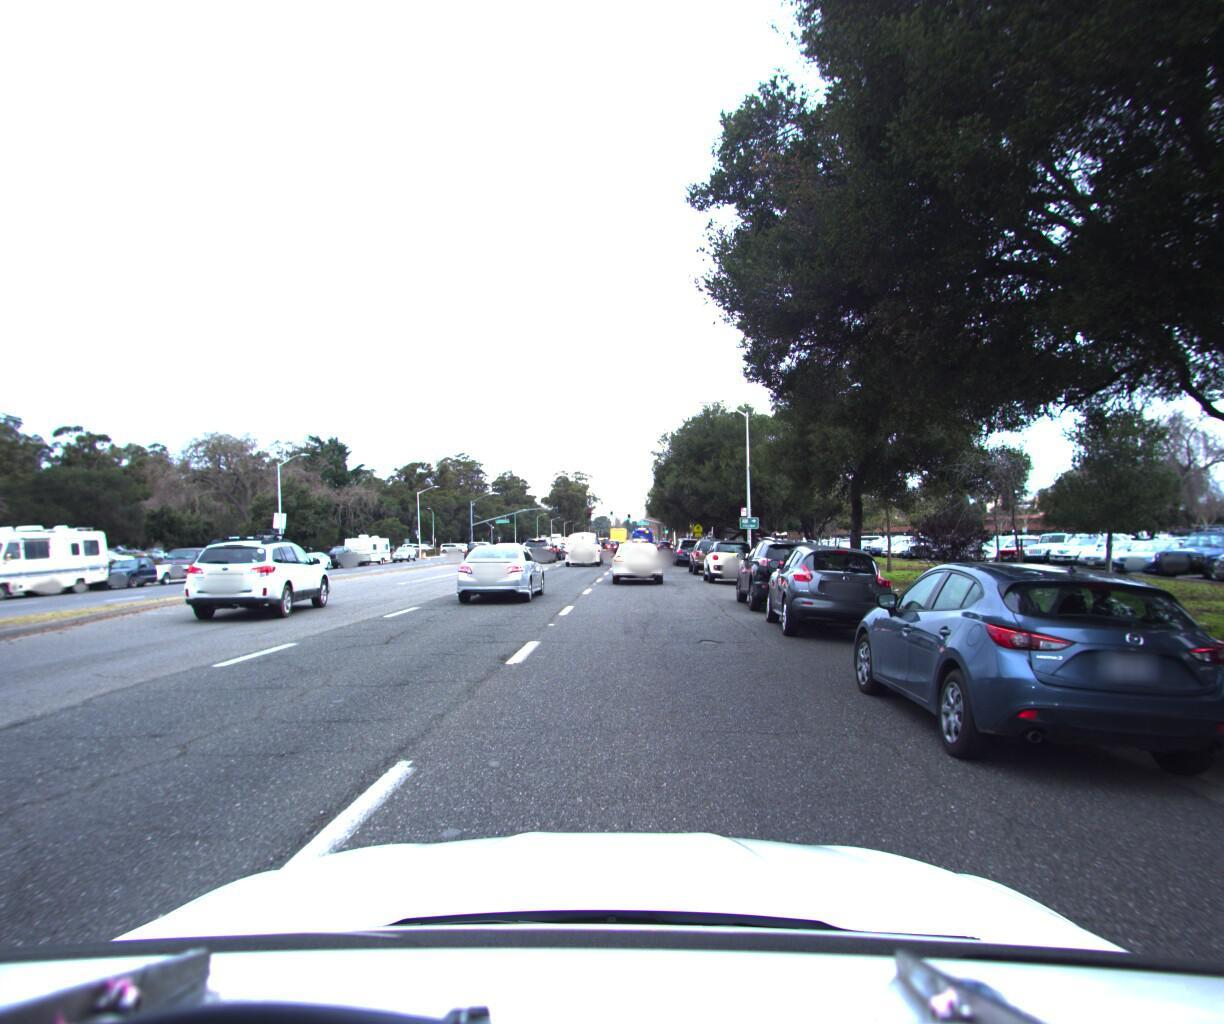car: (837, 545, 1224, 799), (176, 525, 336, 623), (760, 537, 896, 640), (733, 527, 841, 611), (449, 536, 547, 604), (94, 552, 180, 590), (154, 542, 233, 581), (697, 531, 756, 578), (611, 535, 665, 584), (685, 530, 733, 573), (565, 526, 606, 564), (488, 535, 530, 565), (314, 540, 361, 566), (287, 547, 335, 569), (522, 532, 557, 560), (457, 537, 496, 562), (669, 535, 705, 562), (590, 529, 614, 552)
other_vehicle: (0, 520, 119, 604), (341, 529, 394, 564)
